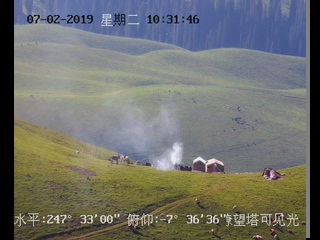smoke: (150, 140, 185, 172)
